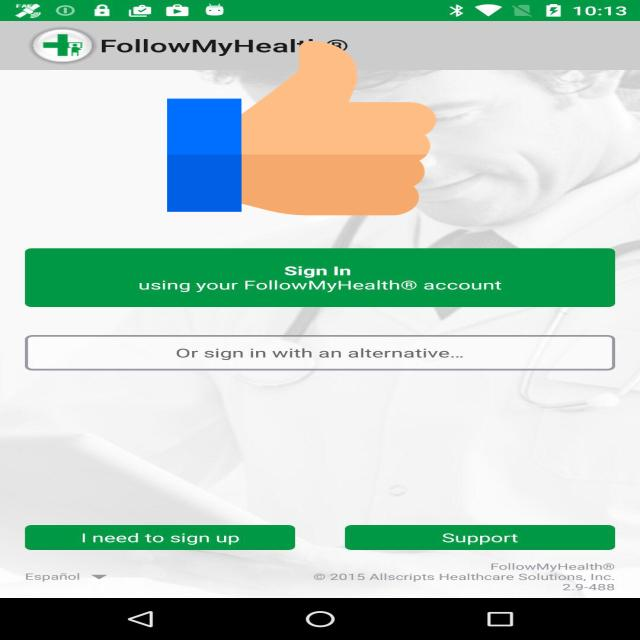privacy zuckering: (167, 36, 436, 220)
